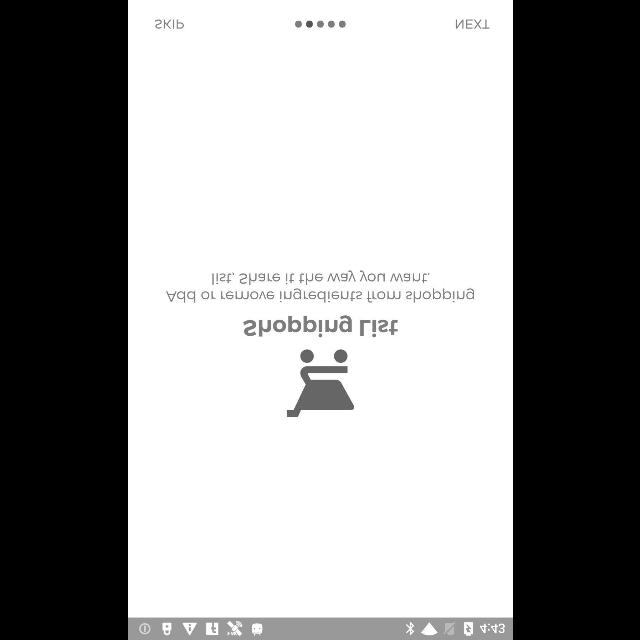icon: (286, 349, 354, 417)
pageindicator: (294, 20, 346, 28)
text: (165, 270, 473, 302), (242, 315, 398, 337), (455, 20, 489, 28), (154, 20, 183, 28)
uppertaskbar: (128, 617, 512, 639)
